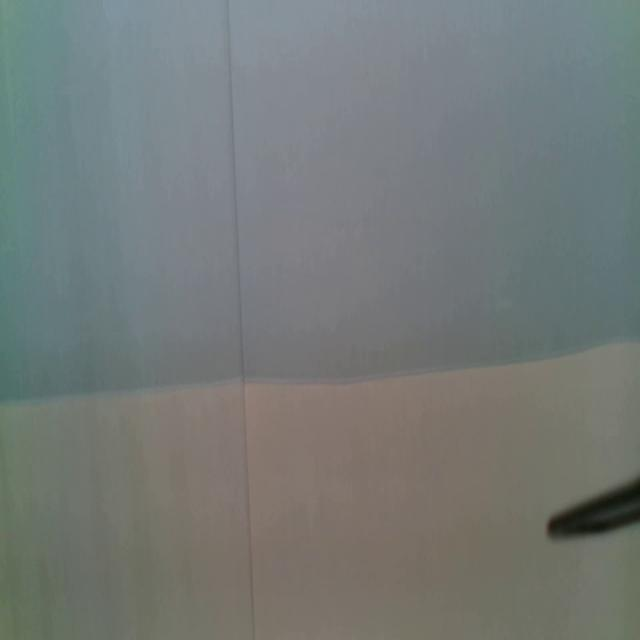crease: (226, 0, 258, 640)
